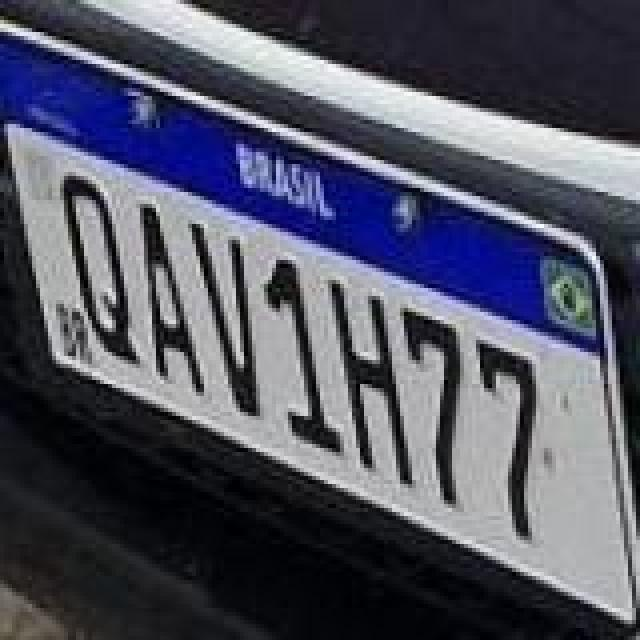1: (264, 254, 344, 458)
7: (476, 334, 548, 546), (400, 304, 464, 512)
A: (136, 202, 208, 398)
H: (324, 278, 412, 490)
Q: (58, 170, 142, 374)
V: (188, 218, 260, 422)
